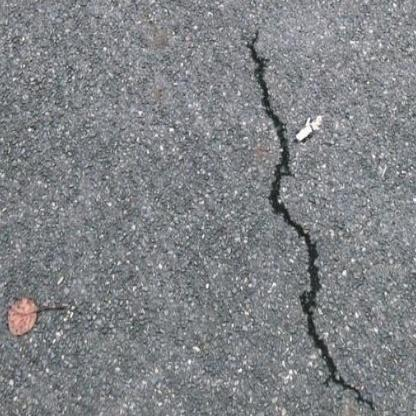Cracks: (242, 28, 379, 415)
